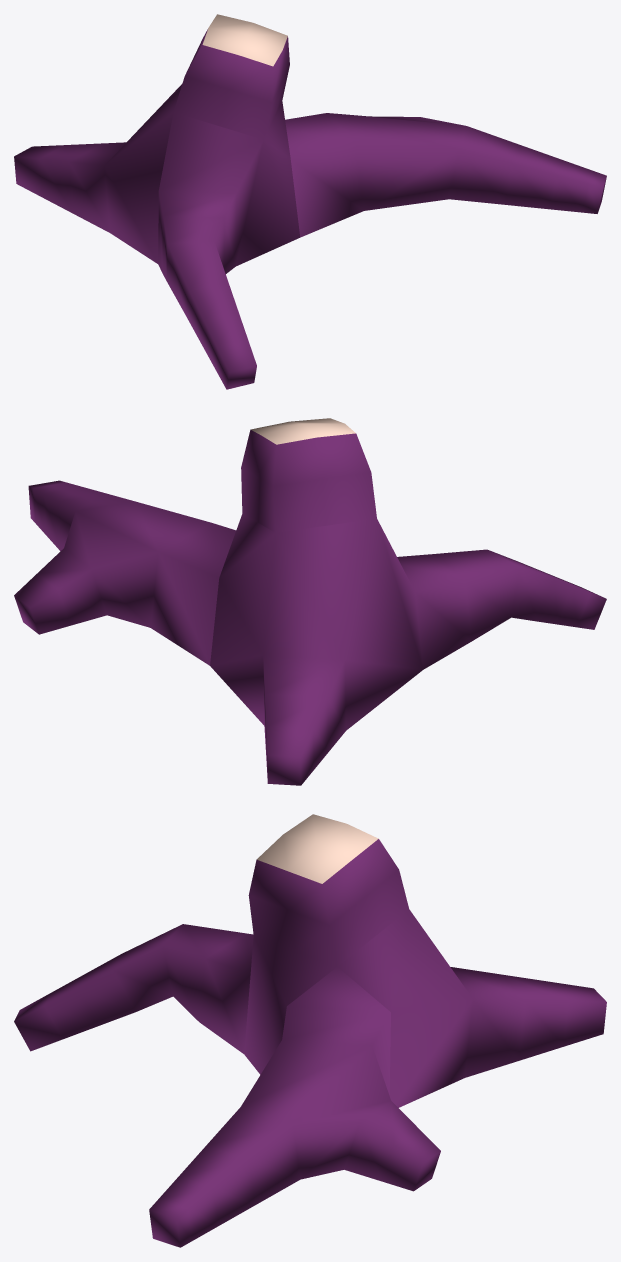
Rendered from Stump.glb.
3 renders of one model, top to bottom at view 1: azimuth 30°, elevation 25°; view 2: azimuth 150°, elevation 25°; view 3: azimuth 270°, elevation 25°, orthographic. The views are drawn at different scales.
Visible parts, largest first — view 1: Plane; view 2: Plane; view 3: Plane.
Boxes of the visible parts, x1,y1,x2,y2 form: Plane: (14, 14, 606, 389); Plane: (14, 418, 606, 785); Plane: (14, 814, 606, 1247).
Bounding box in the file's own units: 2.49 × 1.28 × 2.44.
